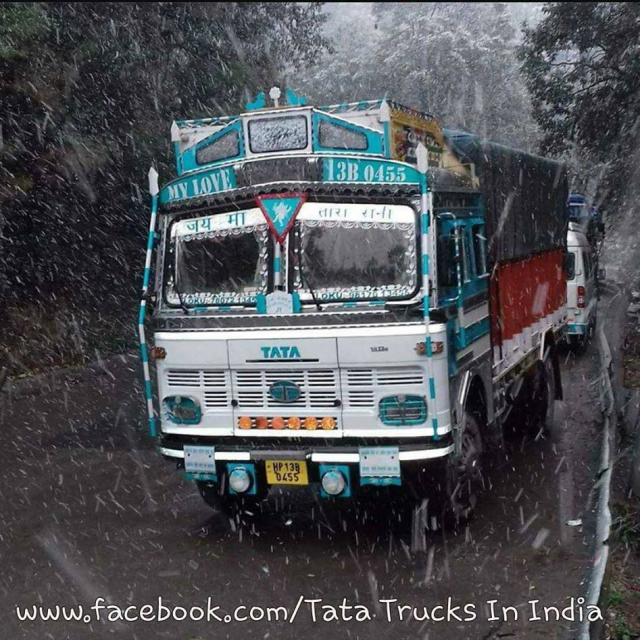truck: (113, 83, 573, 540)
